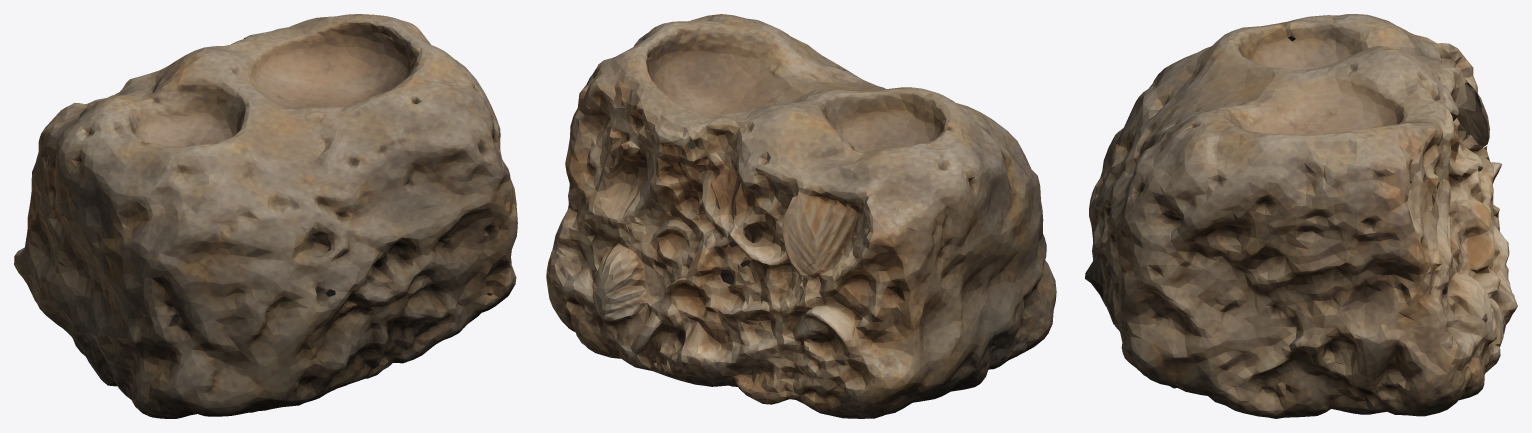
The picture shows the model from 3 angles, left to right: view 1: azimuth 30°, elevation 25°; view 2: azimuth 150°, elevation 25°; view 3: azimuth 270°, elevation 25°; orthographic projection. The views are drawn at different scales.
Parts seen in each view (by area): view 1: world; view 2: world; view 3: world.
Part boxes in pixels (left/top/right/bottom): world: left=14, top=14, right=517, bottom=418; world: left=546, top=14, right=1056, bottom=418; world: left=1085, top=14, right=1517, bottom=418.
Size of the model in its own units: 0.7403 by 0.5132 by 0.6746.
1 material, 1 textured.
